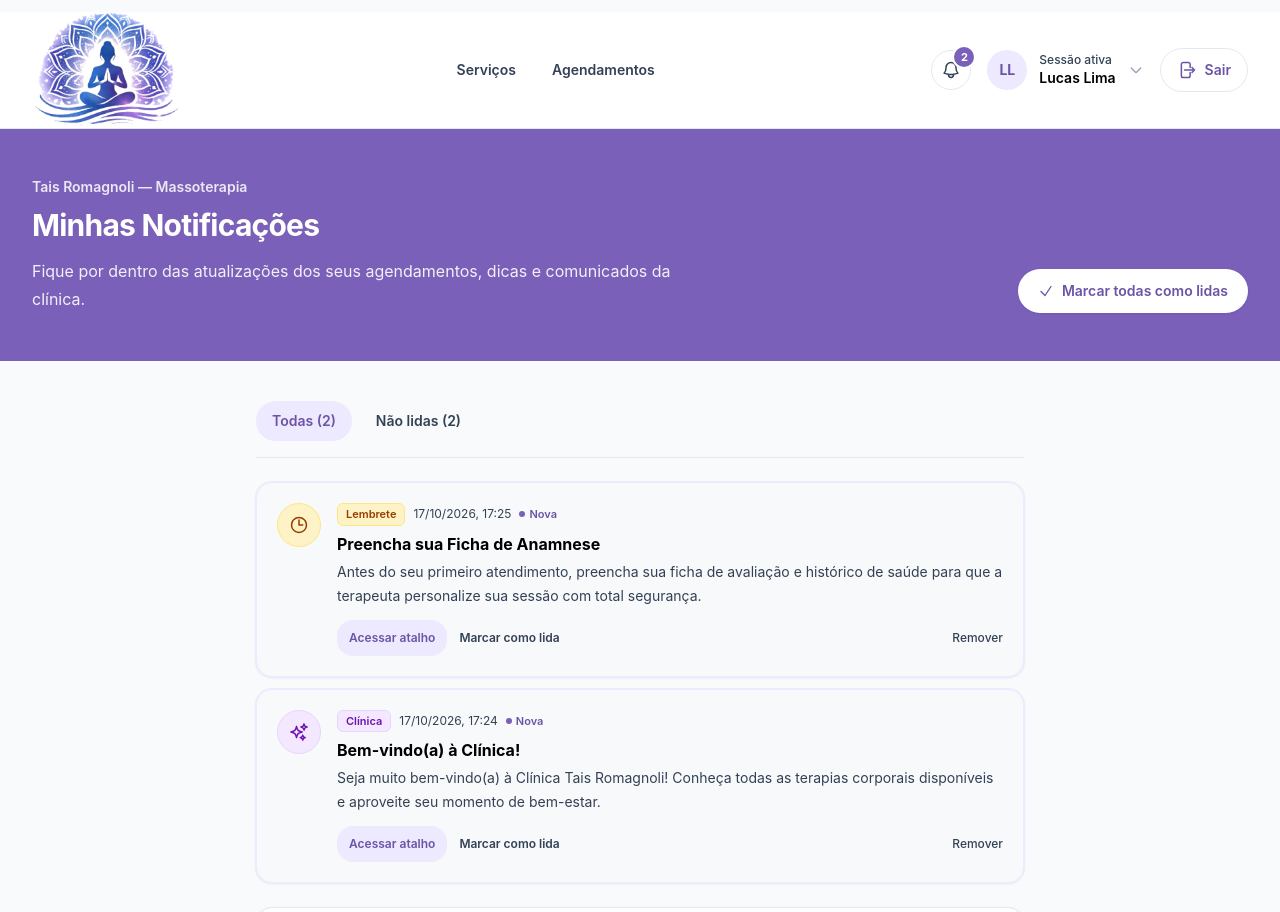
NotificationsPage › permite remover as notificacoes e mantém o estado vazio
The image size is (1280, 912).
Click the button with aria-label "Remover notificação: Preencha sua Ficha de Anamnese": [978, 638] box [952,630,1003,646]
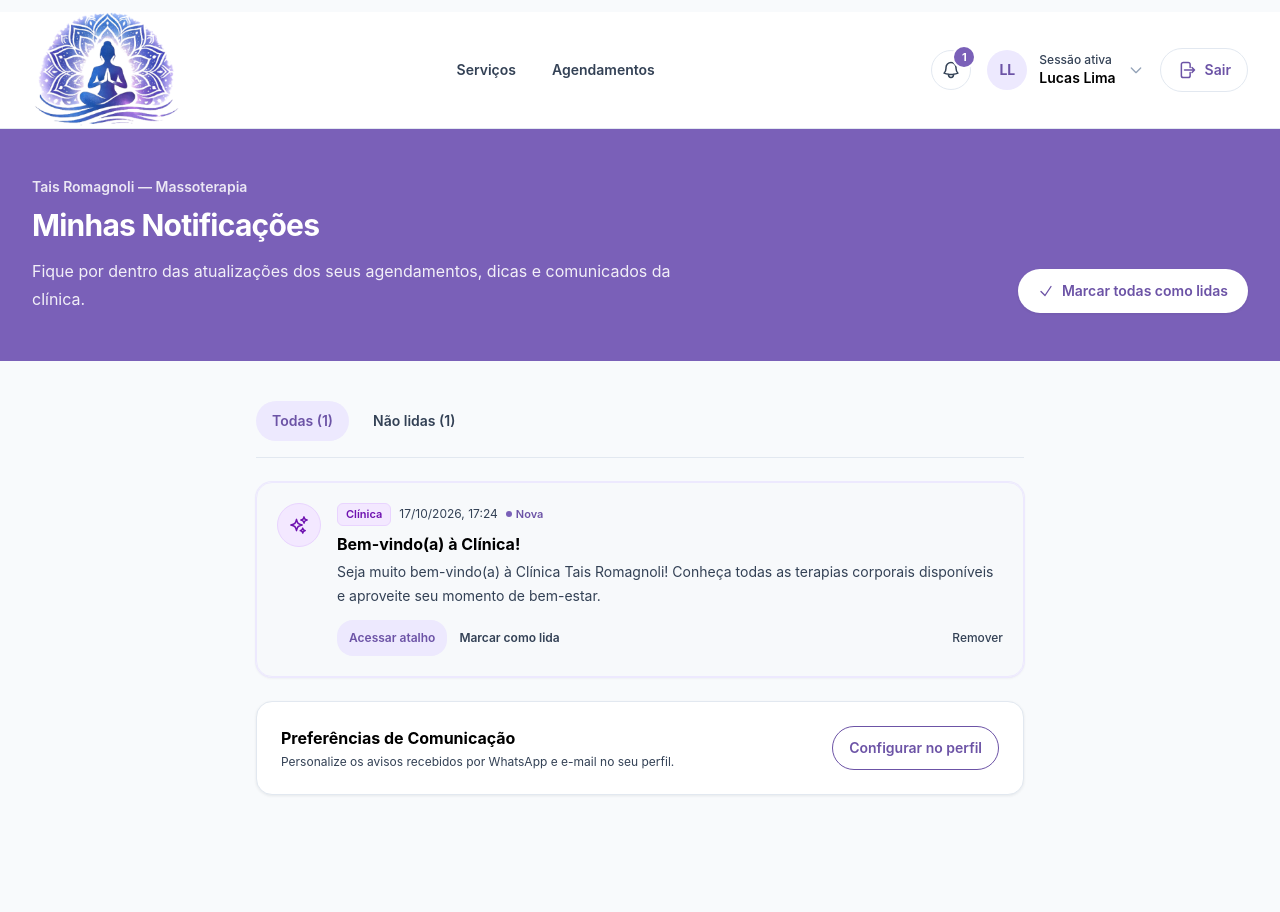
Click the button with aria-label "Remover notificação: Bem-vindo(a) à Clínica!": [978, 638] box [952,630,1003,646]
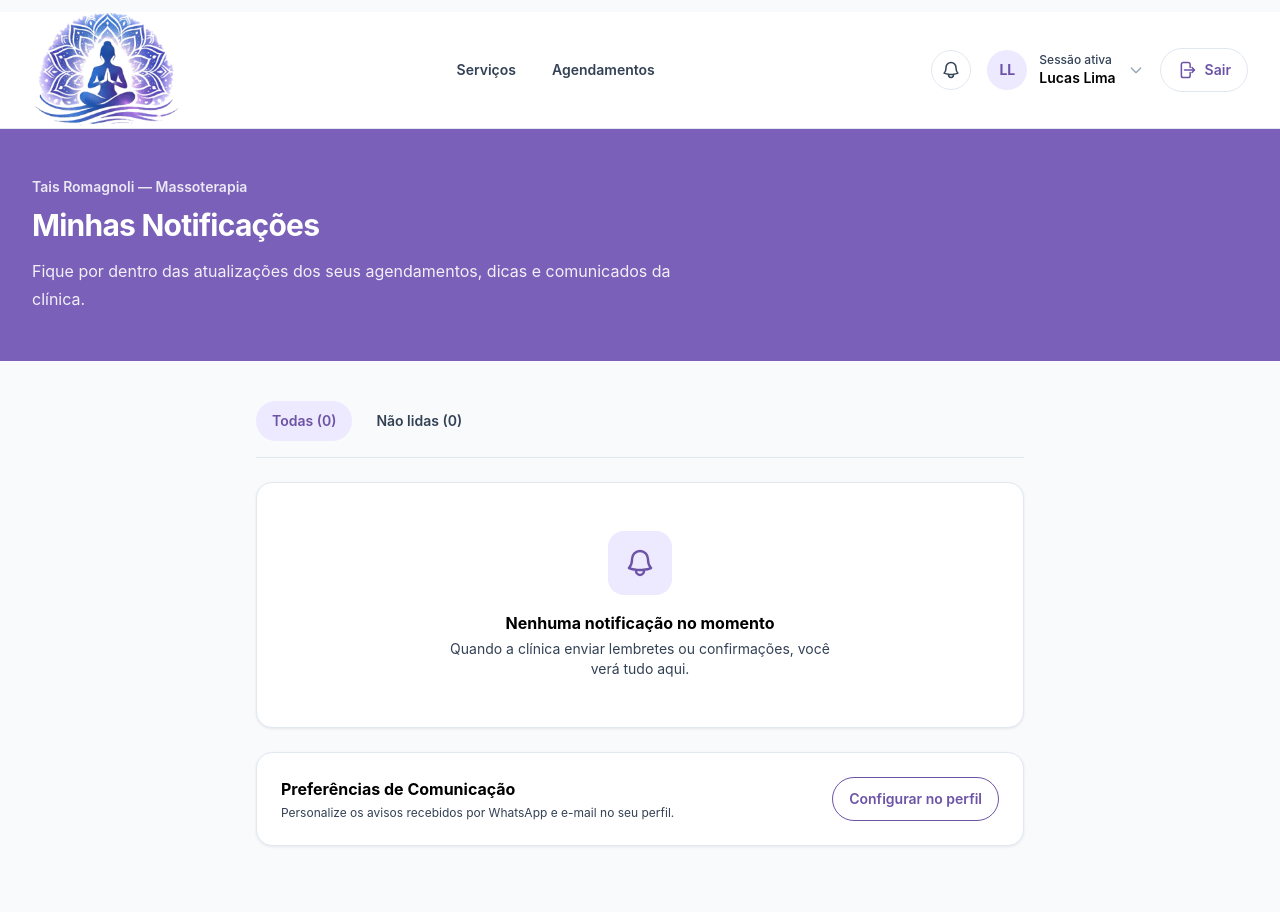
Expected: the heading "Nenhuma notificação no momento" is shown, [506,611,774,635]
